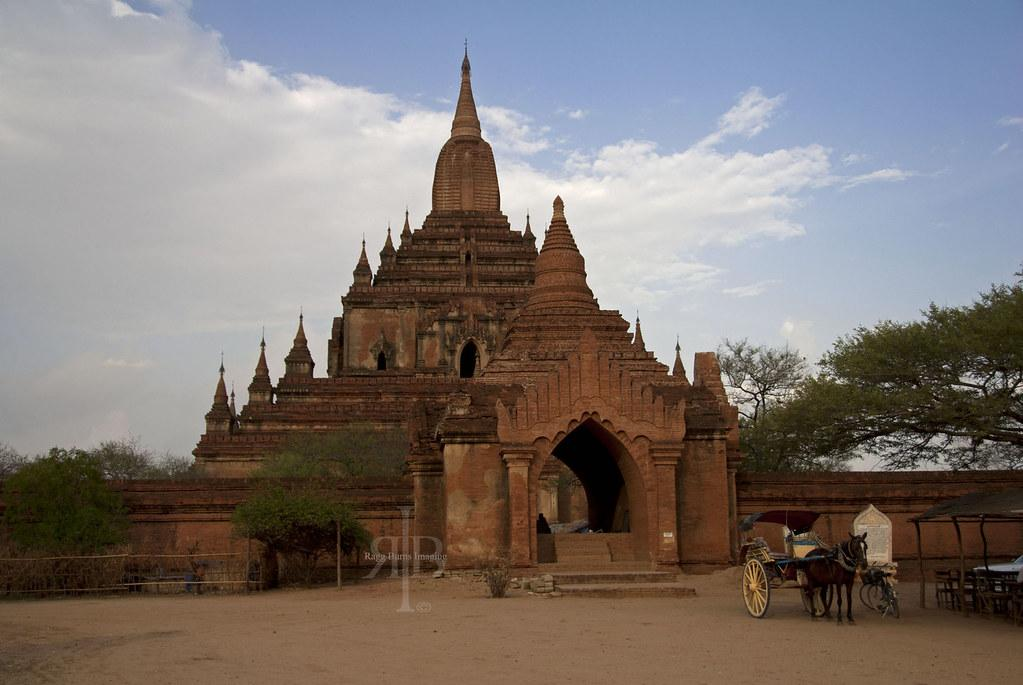temple: (108, 36, 752, 586)
